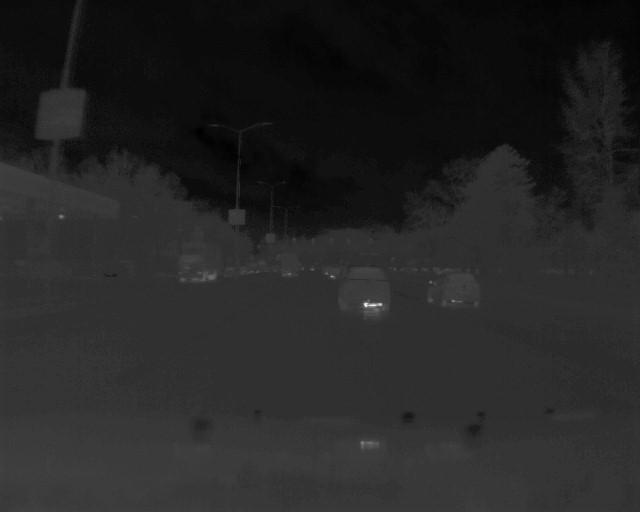car: (333, 261, 397, 316), (423, 268, 487, 312), (176, 237, 234, 285)
